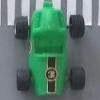verde_este: (17, 1, 84, 95)
